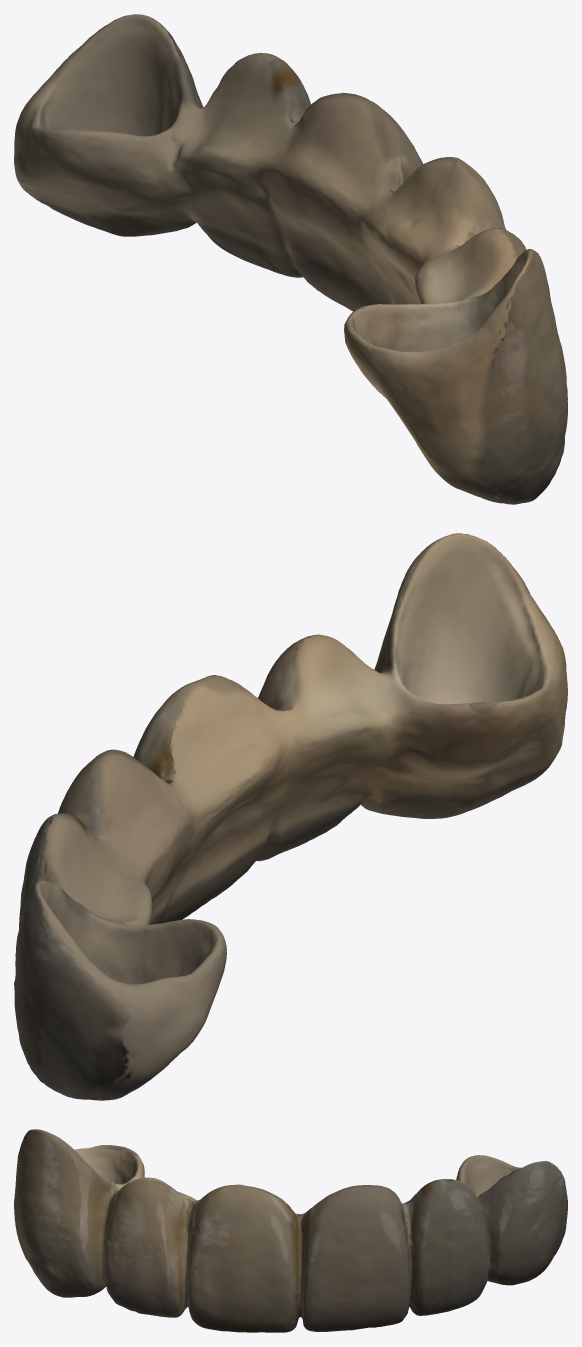
Rendered from zircon edited blenderglb.glb.
3 views of the same model, one above another, from view 1: azimuth 30°, elevation 25°; view 2: azimuth 150°, elevation 25°; view 3: azimuth 270°, elevation 25° (orthographic). The views are drawn at different scales.
Parts seen in each view (by area): view 1: zircon bnridge LowerJawScan; view 2: zircon bnridge LowerJawScan; view 3: zircon bnridge LowerJawScan.
Part boxes in pixels (box(x1,y1,x2,y2)): zircon bnridge LowerJawScan: box(14, 14, 567, 504); zircon bnridge LowerJawScan: box(14, 533, 567, 1100); zircon bnridge LowerJawScan: box(14, 1129, 567, 1332).
Bounding box in the file's own units: 1.38 × 1.33 × 3.95.
1 material, 1 textured.
